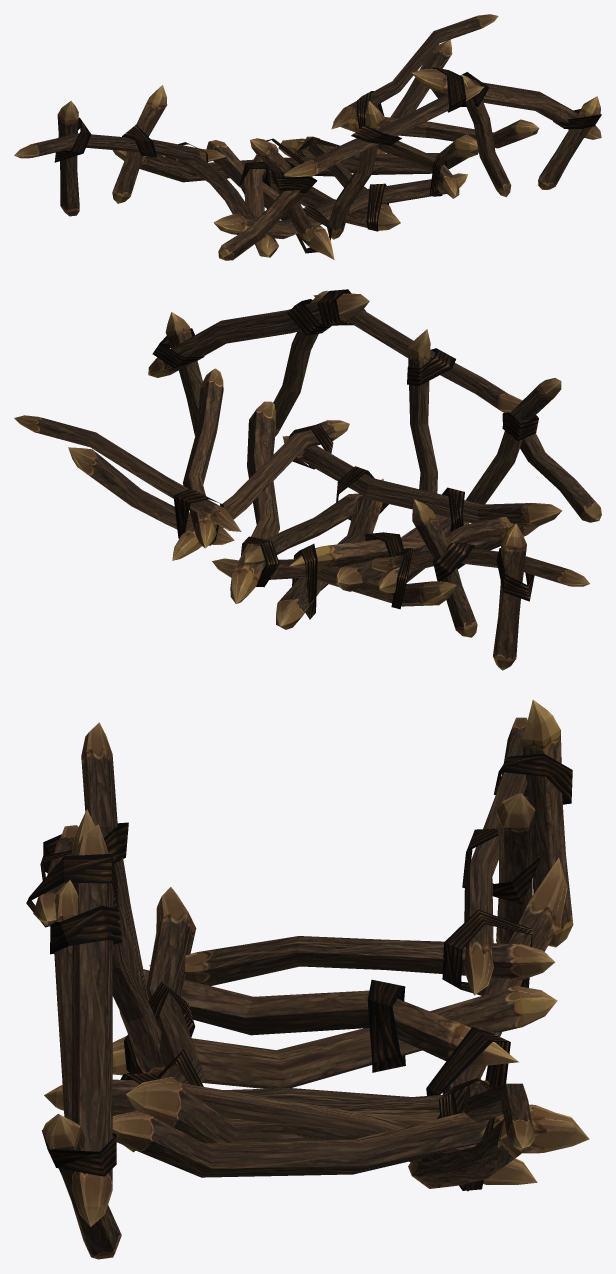
Rendered from lava_bridge_straight_02.fbx.
The picture shows the model from 3 angles, top to bottom: view 1: azimuth 30°, elevation 25°; view 2: azimuth 150°, elevation 25°; view 3: azimuth 270°, elevation 25°; orthographic projection. The views are drawn at different scales.
Parts seen in each view (by area): view 1: obj0.135; view 2: obj0.135; view 3: obj0.135.
Boxes of the visible parts, x1,y1,x2,y2 form: obj0.135: (14,14,601,260); obj0.135: (14,289,601,670); obj0.135: (26,700,589,1259).
Size of the model in its own units: 7.44 by 2.7 by 3.75.
